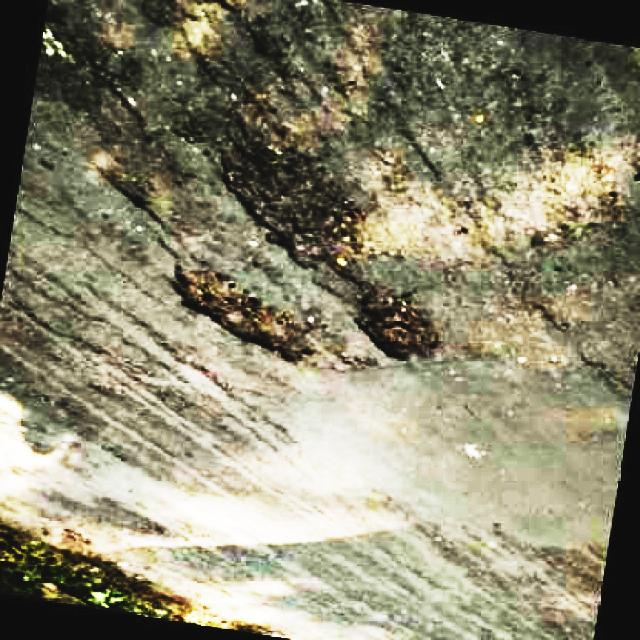pothole: (222, 140, 364, 266), (171, 260, 309, 365), (356, 289, 442, 368)
